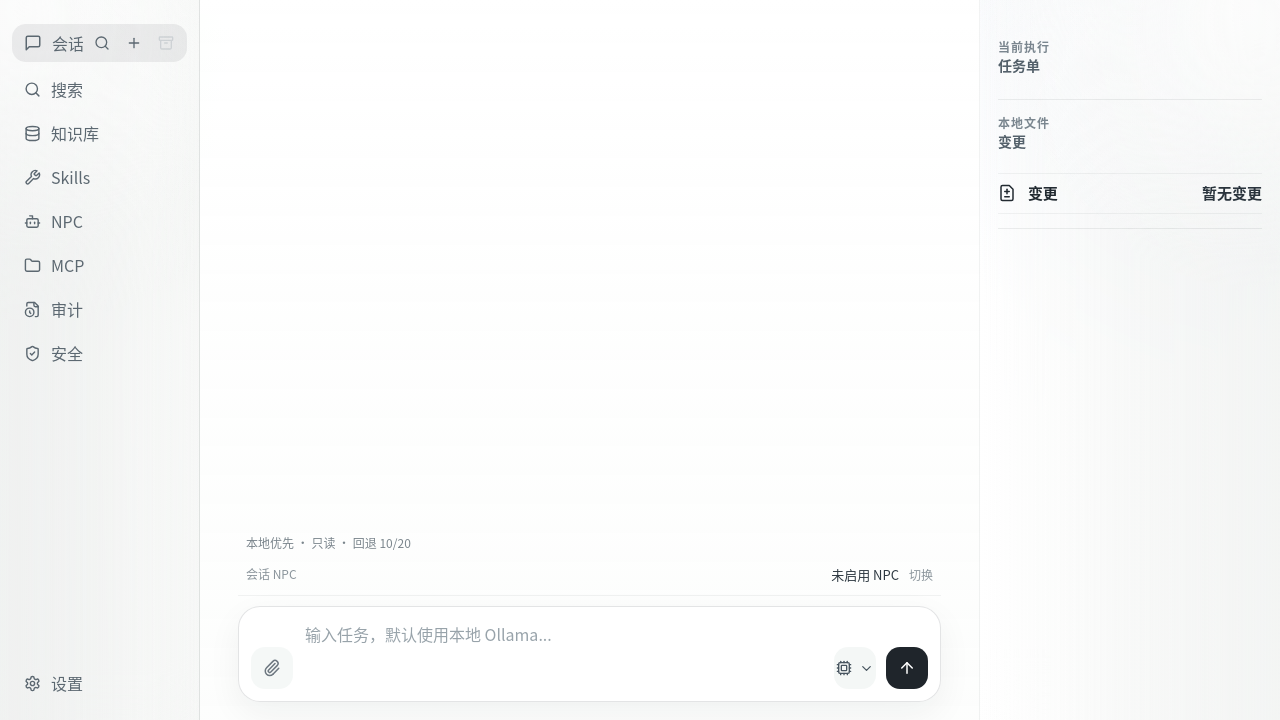
Test case: App continuation flow › continues from the latest local RAG shell handoff plan wording without repeating the full request
Expected: the button named "选择模型：qwen2.5-coder:7b" is shown, [834, 647, 876, 689]
Expected: the button with class "send-button" is shown, [886, 647, 928, 689]
Type "review local shell permission rules and plan the next safe shell step to create a temp-output folder" into the text box with placeholder "输入任务，默认使用本地 Ollama..." at (562, 654), box [303, 619, 822, 689]
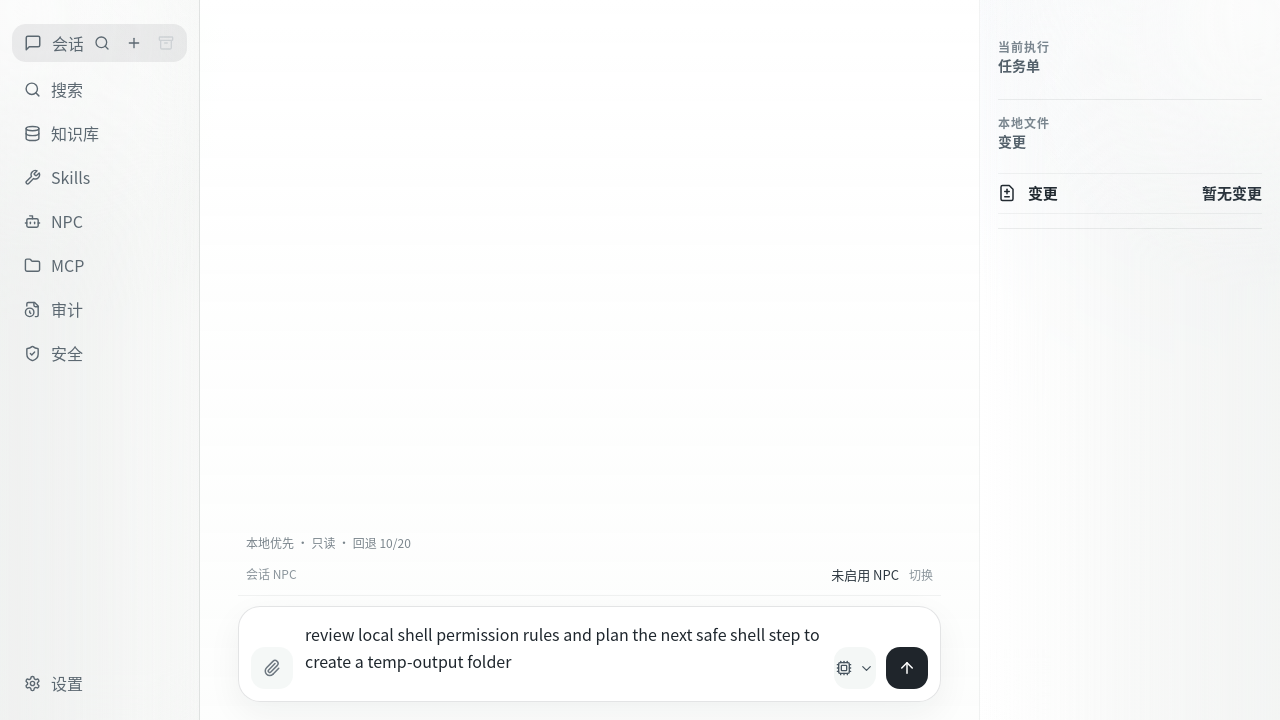
Click the button with class "send-button" at (907, 668), box [886, 647, 928, 689]
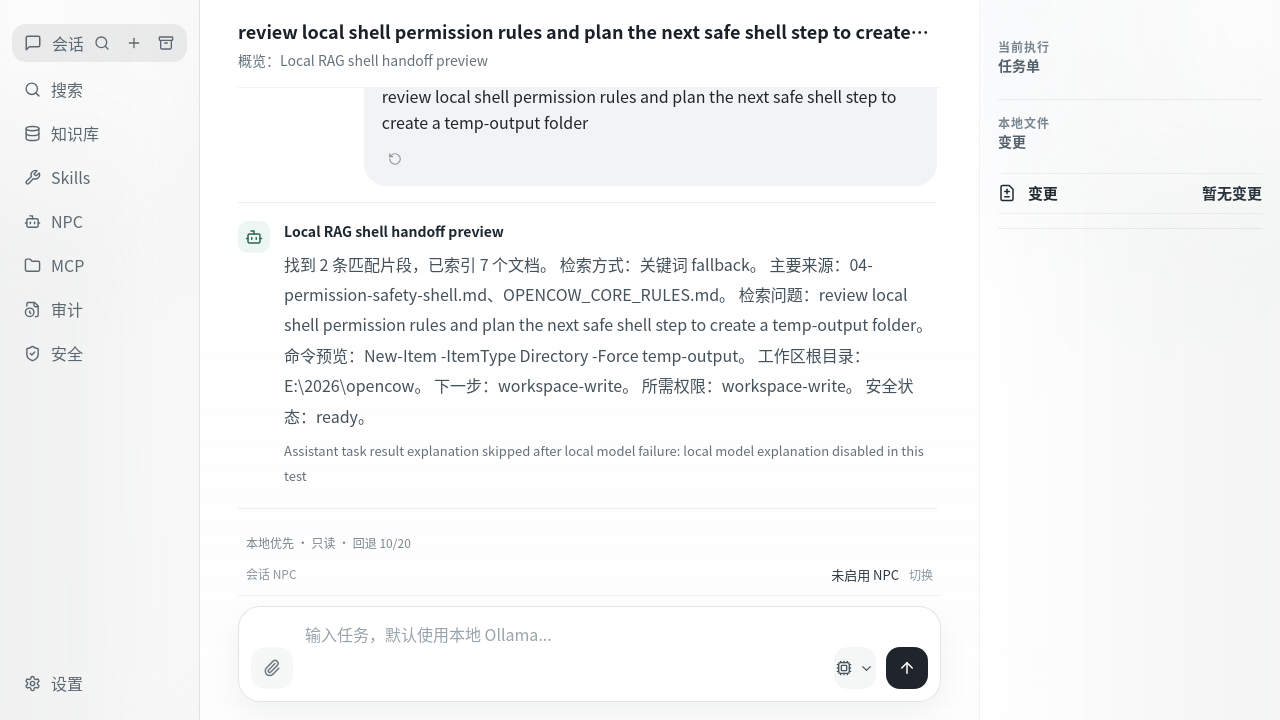
Expected: the text "概览：Local RAG shell handoff preview" is shown, [238, 50, 488, 70]
Type "continue" into the text box with placeholder "输入任务，默认使用本地 Ollama..." at (562, 654), box [303, 619, 822, 689]
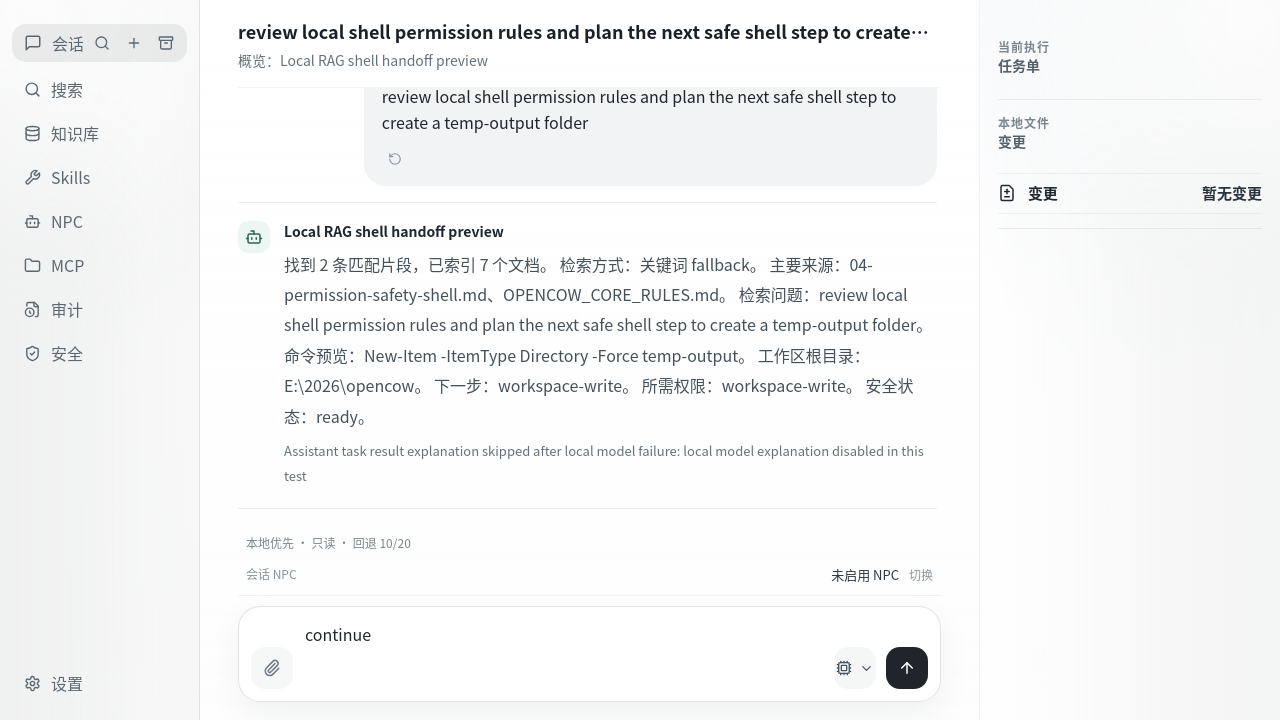
Click the button with class "send-button" at (907, 668), box [886, 647, 928, 689]
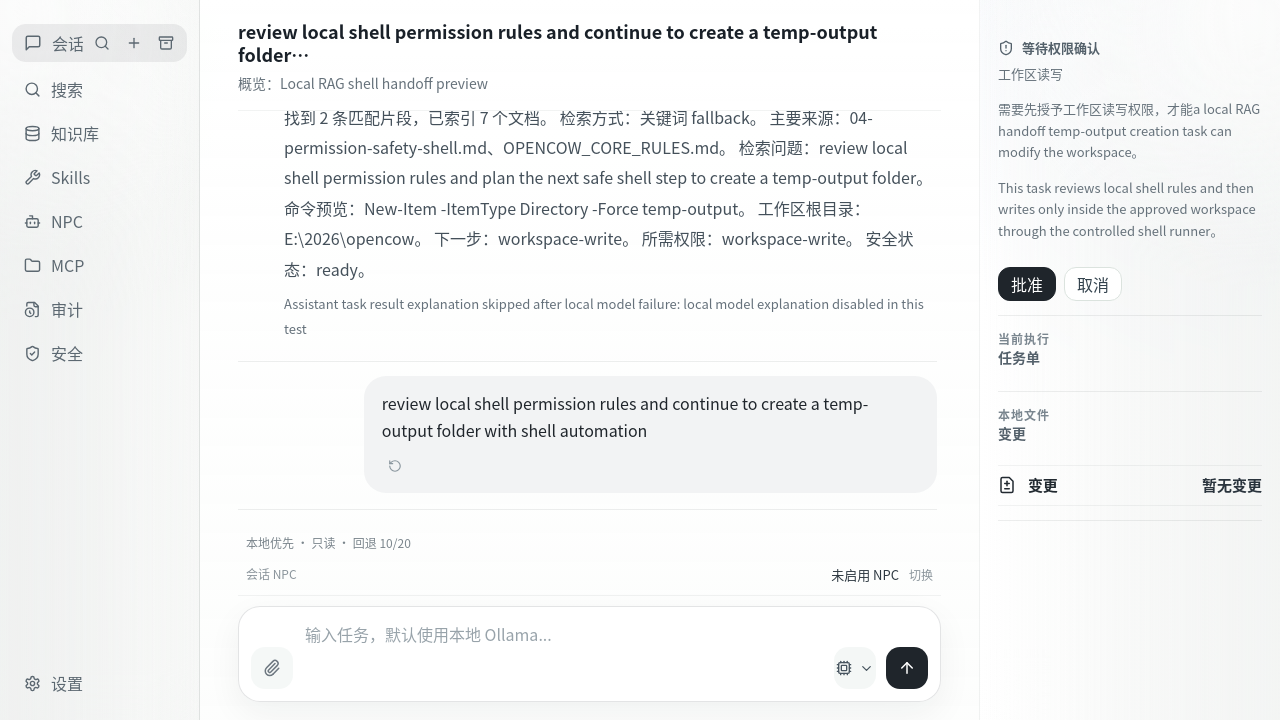
Expected: the text "等待权限确认" is shown, [1022, 38, 1100, 57]
Click the button "批准" at (1027, 284), box [998, 267, 1056, 301]
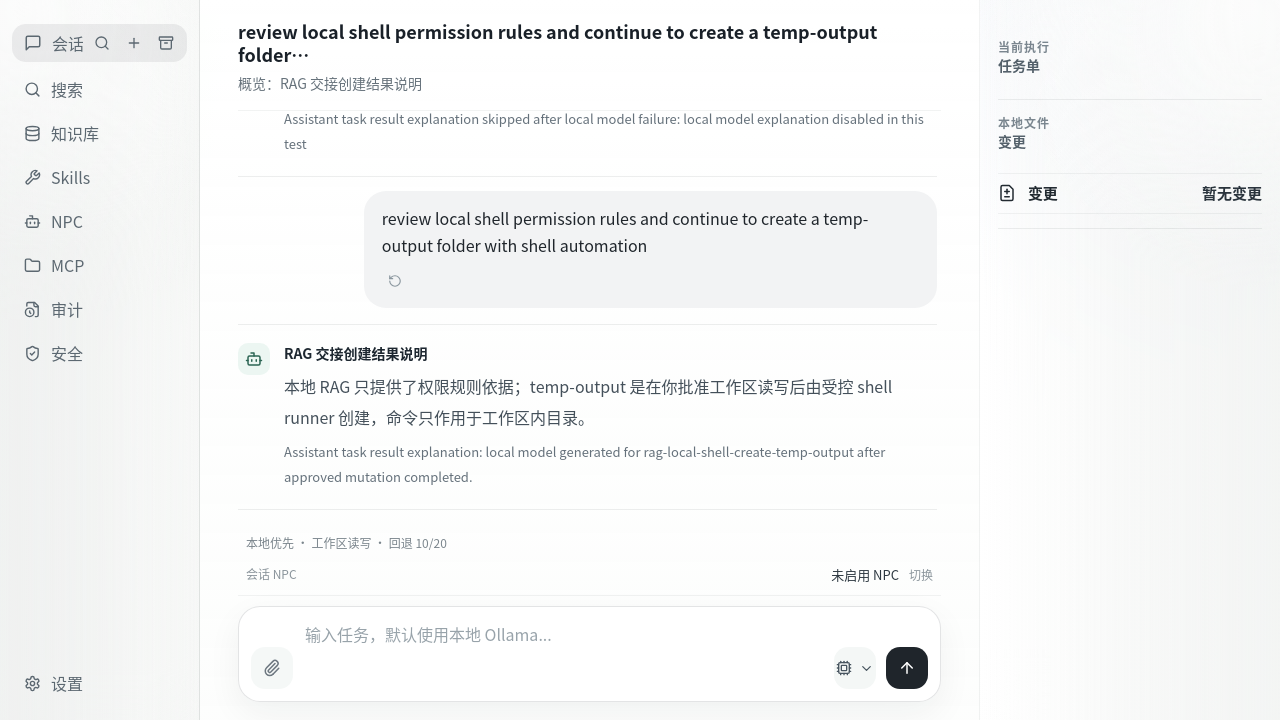
Expected: the text "等待权限确认" is gone
Expected: the text "RAG 交接创建结果说明" is shown, [284, 343, 428, 363]
Expected: the text "本地 RAG 只提供了权限规则依据" is shown, [284, 374, 896, 428]
